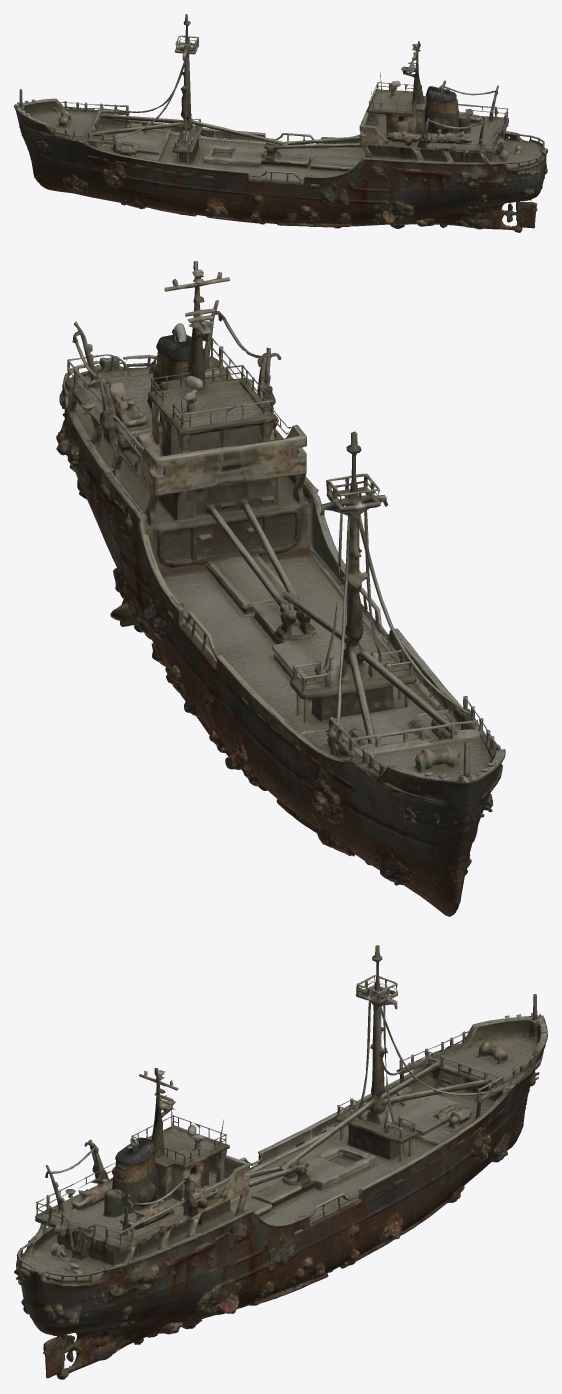
Rendered from wreck.glb.
The picture shows the model from 3 angles, top to bottom: view 1: azimuth 30°, elevation 25°; view 2: azimuth 150°, elevation 25°; view 3: azimuth 270°, elevation 25°; orthographic projection. The views are drawn at different scales.
Visible parts, largest first — view 1: tripo_node_90ebc2ff-c65d-42ab-a327-24775d189d44; view 2: tripo_node_90ebc2ff-c65d-42ab-a327-24775d189d44; view 3: tripo_node_90ebc2ff-c65d-42ab-a327-24775d189d44.
Boxes of the visible parts, <box> form: tripo_node_90ebc2ff-c65d-42ab-a327-24775d189d44: <box>14,14,547,232</box>; tripo_node_90ebc2ff-c65d-42ab-a327-24775d189d44: <box>56,261,505,916</box>; tripo_node_90ebc2ff-c65d-42ab-a327-24775d189d44: <box>14,945,547,1379</box>.
Bounding box in the file's own units: 0.7676 × 0.3872 × 0.6709.
1 material, 1 textured.
